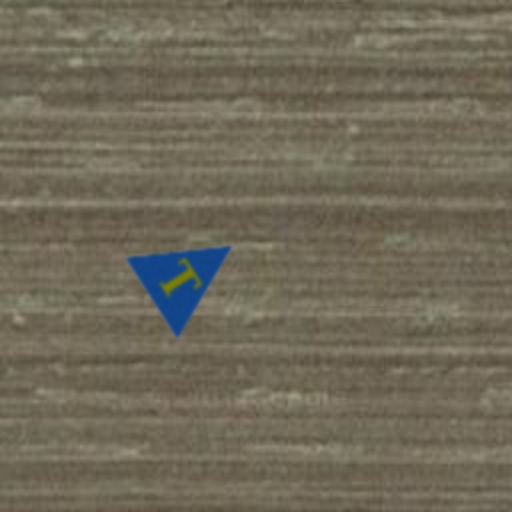triangle: (124, 204, 260, 340)
